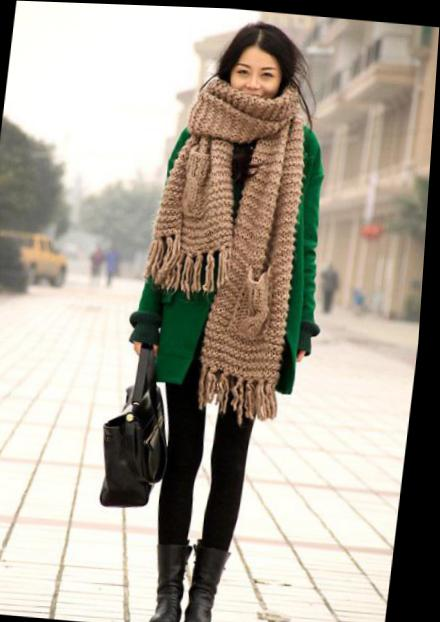WRONG: (225, 57, 288, 119)
